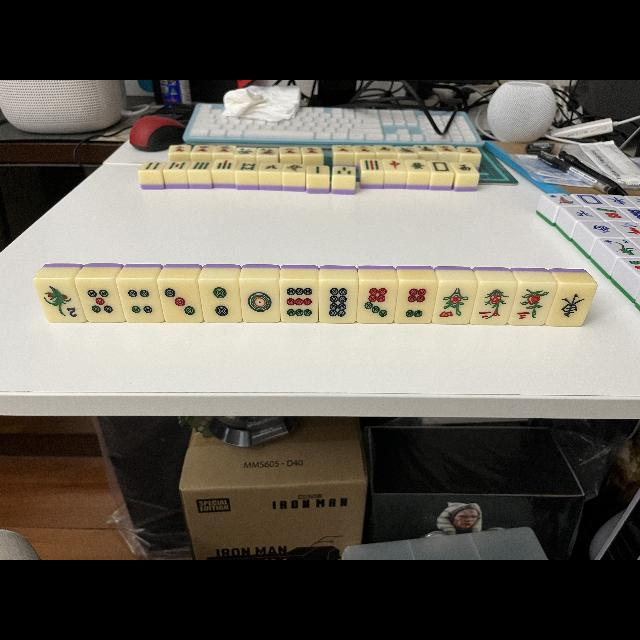d1: (240, 280, 280, 322)
d2: (198, 280, 242, 322)
d3: (158, 279, 202, 323)
d4: (117, 280, 163, 322)
d5: (74, 279, 124, 323)
d6: (396, 280, 434, 324)
d7: (358, 281, 396, 323)
d8: (318, 280, 358, 324)
d9: (280, 280, 318, 322)
f2-s: (32, 278, 84, 324)
s2-s: (472, 282, 514, 326)
s3-s: (511, 284, 552, 324)
s4-s: (436, 282, 474, 324)
we: (550, 284, 590, 326)
